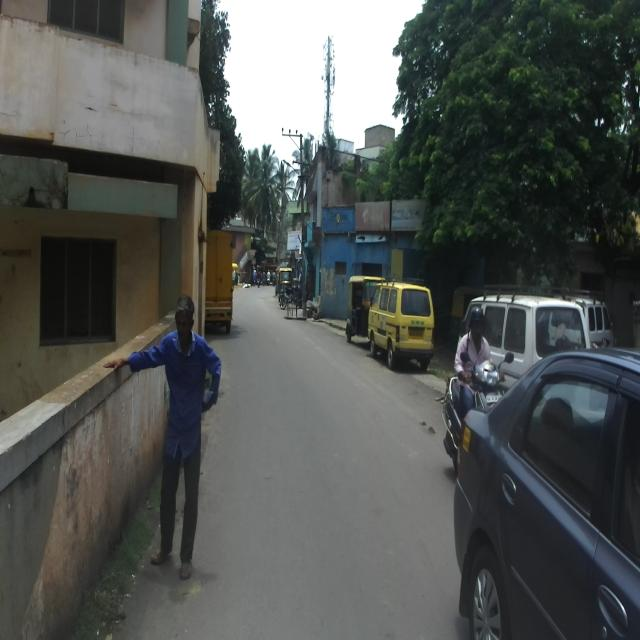car ahead at: (453, 336, 640, 640), (365, 279, 436, 374)
person ahead at: (152, 293, 220, 581)
